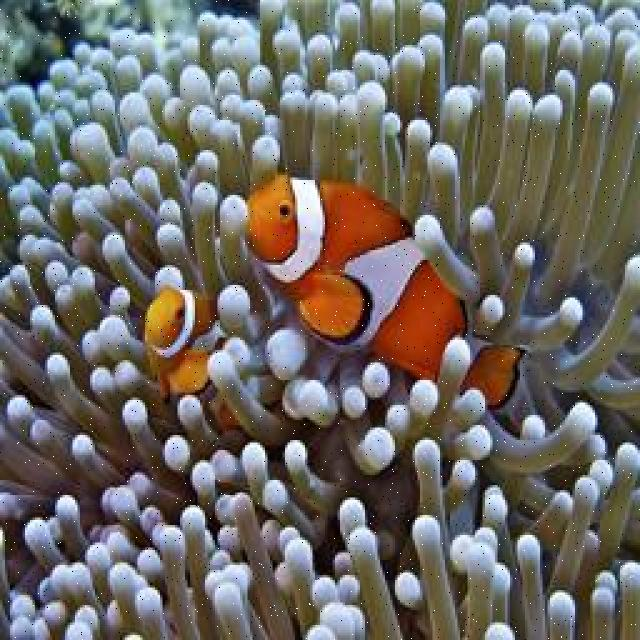fish: (246, 172, 531, 408), (146, 287, 249, 433)
reefs: (0, 0, 638, 638)
